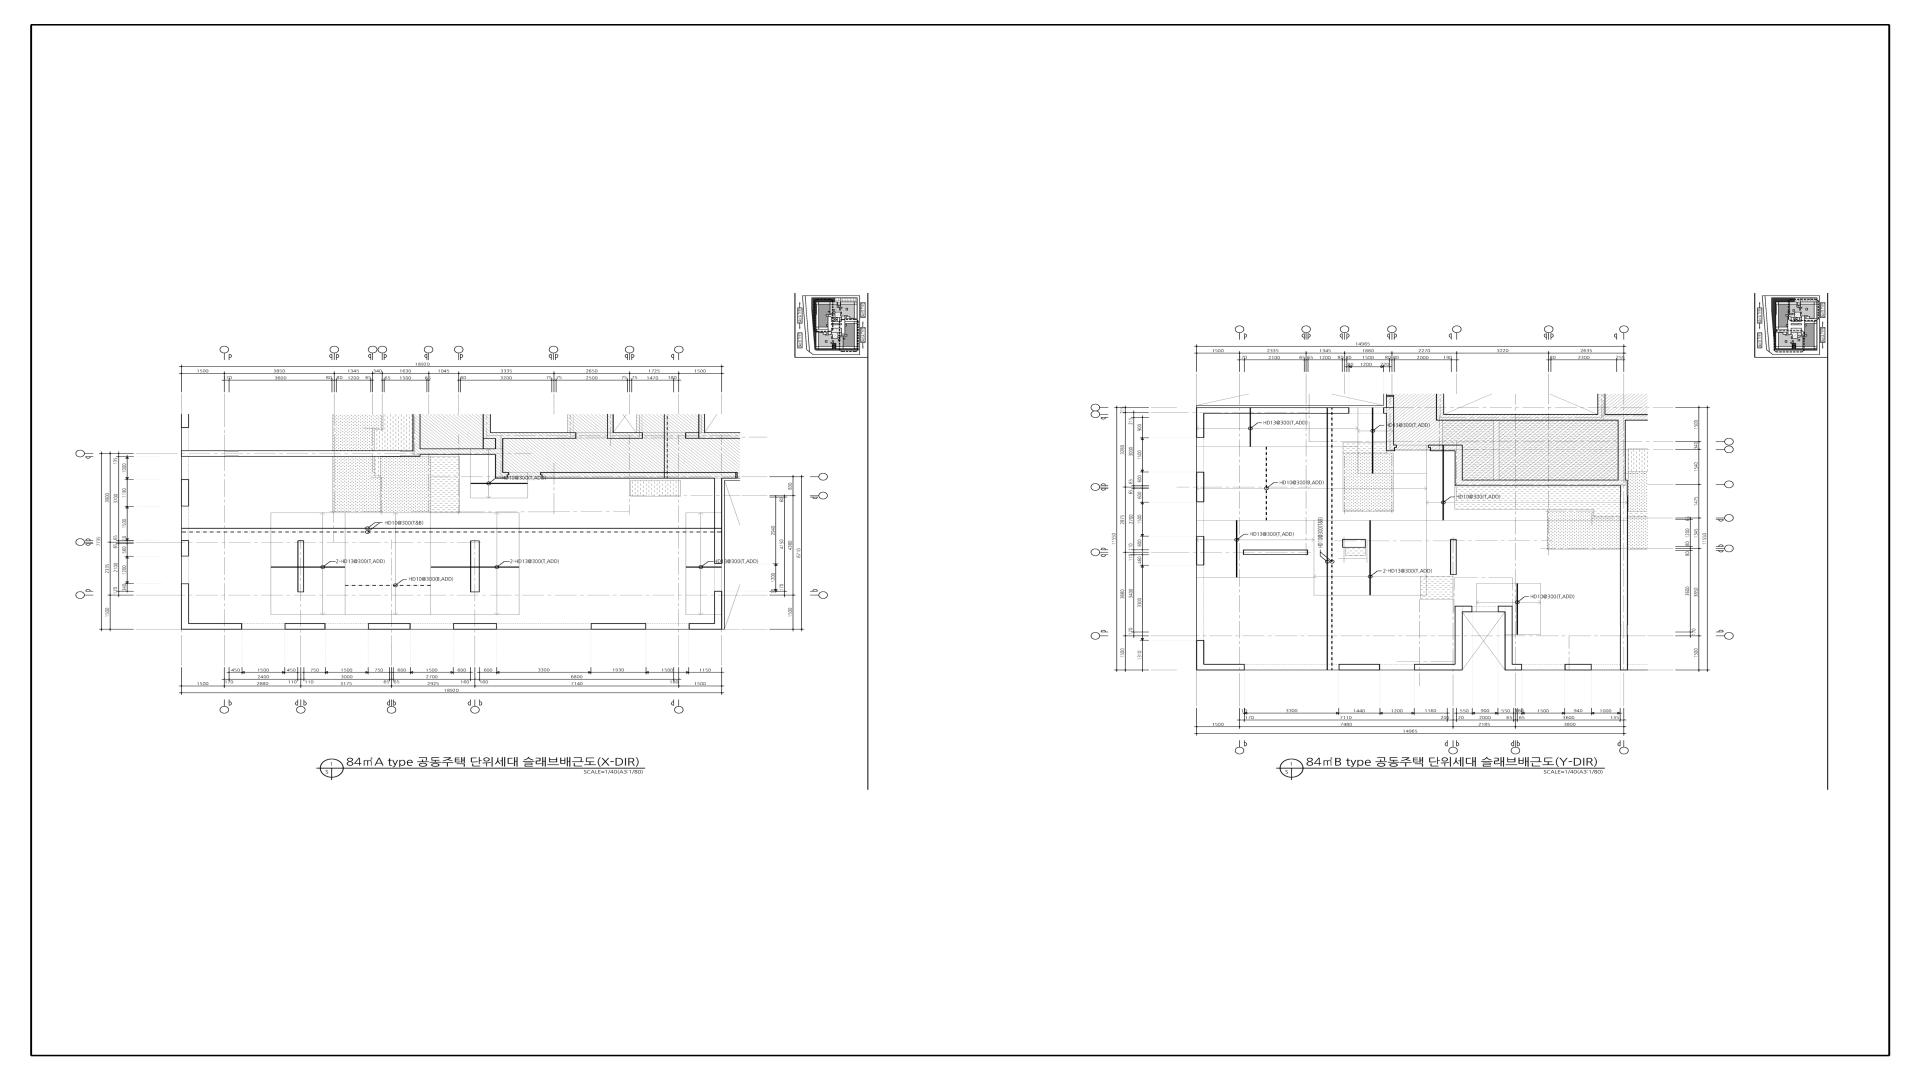wall: (181, 414, 421, 456), (483, 414, 576, 439), (1621, 487, 1629, 670), (1436, 414, 1648, 421), (688, 591, 721, 630), (541, 472, 737, 479), (1462, 480, 1627, 487), (1204, 407, 1349, 414), (607, 414, 642, 439), (713, 479, 723, 564), (421, 448, 504, 455), (1386, 396, 1395, 451), (471, 541, 480, 592), (1618, 421, 1626, 480), (1455, 612, 1462, 670), (1505, 612, 1513, 665), (591, 624, 646, 630), (181, 584, 189, 630), (686, 433, 740, 439), (189, 624, 243, 630), (1244, 550, 1308, 555), (298, 541, 305, 592), (454, 624, 497, 630), (1455, 451, 1462, 487), (368, 624, 410, 630), (1338, 665, 1381, 671), (1196, 665, 1245, 670), (1196, 407, 1204, 438), (1196, 472, 1204, 502), (1451, 539, 1457, 575), (1196, 537, 1204, 566), (1428, 444, 1462, 451), (181, 479, 189, 506), (285, 624, 326, 629), (1414, 665, 1455, 670), (1342, 539, 1366, 547), (1196, 641, 1204, 665), (1597, 394, 1606, 414), (1436, 394, 1444, 414), (1565, 665, 1592, 670), (181, 541, 189, 556), (699, 414, 705, 433), (1455, 605, 1472, 612), (1498, 605, 1513, 612), (1505, 665, 1522, 670), (495, 439, 502, 448), (1383, 407, 1386, 414), (1395, 444, 1396, 448)
